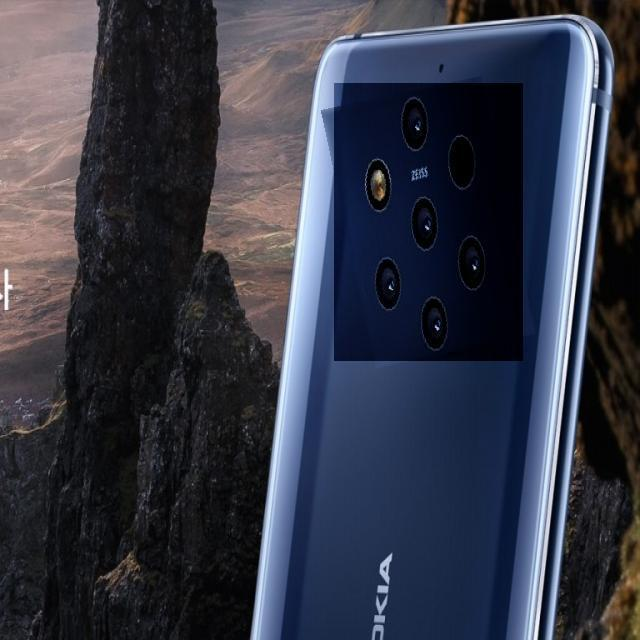phone: (243, 16, 614, 640)
